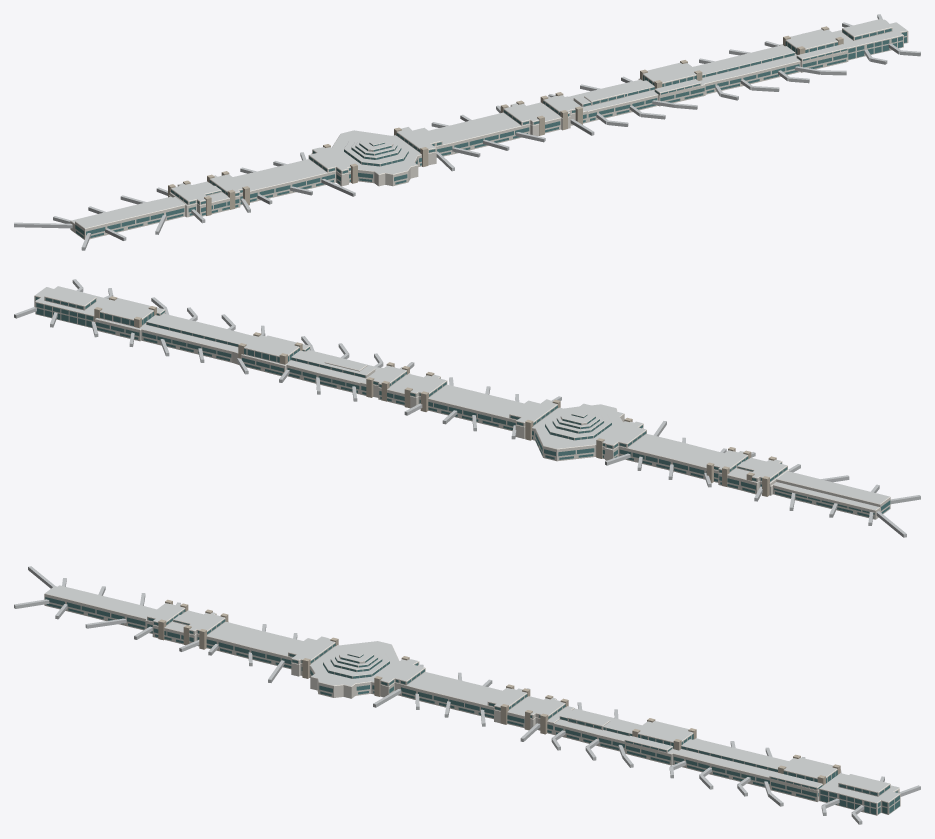
The model's file is den-airport-concourse-c.glb.
The picture shows the model from 3 angles, top to bottom: view 1: azimuth 30°, elevation 25°; view 2: azimuth 150°, elevation 25°; view 3: azimuth 330°, elevation 25°; orthographic projection. The views are drawn at different scales.
Parts seen in each view (by area): view 1: Denver International Airport, Concourse C; view 2: Denver International Airport, Concourse C; view 3: Denver International Airport, Concourse C.
Boxes of the visible parts, x1,y1,x2,y2 form: Denver International Airport, Concourse C: [14, 14, 920, 250]; Denver International Airport, Concourse C: [14, 279, 920, 537]; Denver International Airport, Concourse C: [14, 566, 920, 824].
Bounding box in the file's own units: 1023 × 25.5 × 122.
